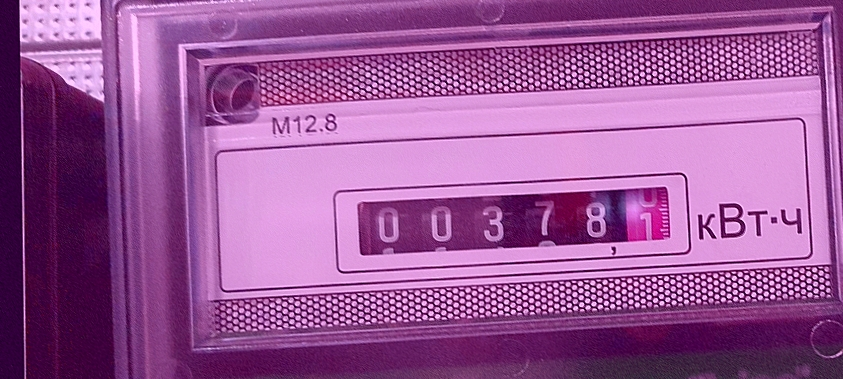0: (375, 202, 403, 243), (428, 202, 454, 241), (637, 185, 659, 207)
1: (636, 208, 656, 240)
3: (479, 202, 506, 243)
7: (532, 197, 556, 236)
8: (583, 198, 608, 238)
screen: (337, 167, 690, 265)
